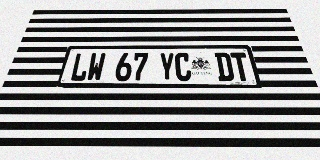6: (114, 53, 133, 81)
7: (131, 53, 148, 81)
C: (175, 53, 192, 81)
D: (214, 53, 235, 81)
L: (69, 53, 91, 81)
T: (230, 52, 252, 81)
W: (86, 53, 106, 81)
Y: (159, 53, 175, 81)
